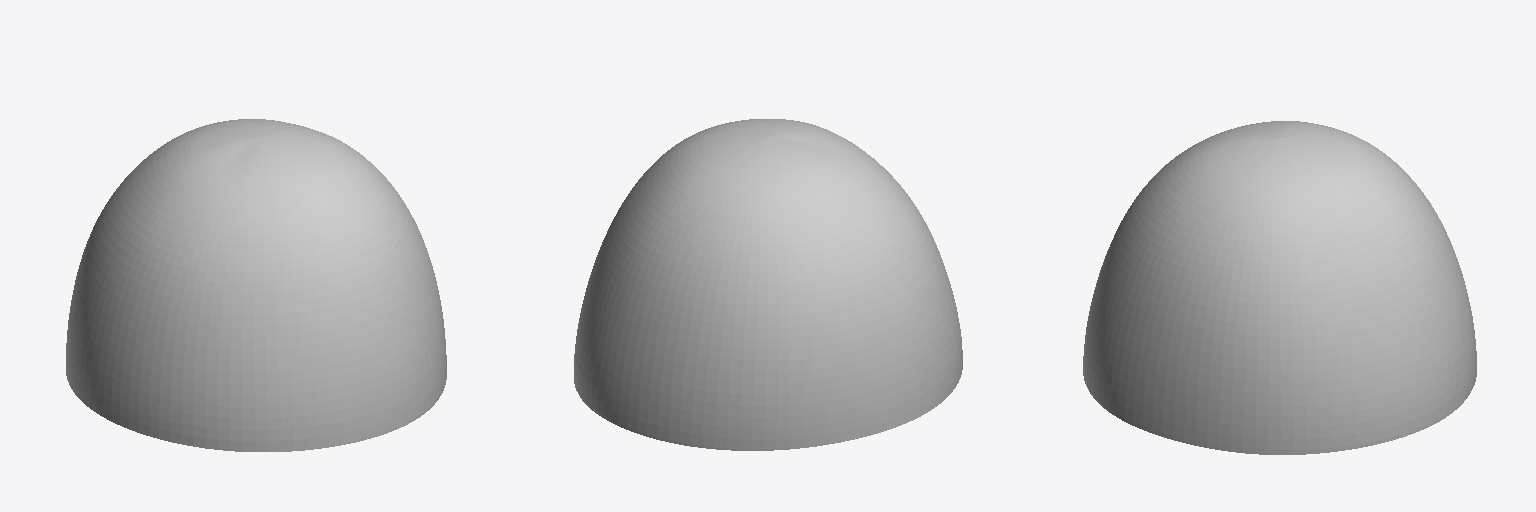
Rendered from watermelon_cut_2.obj.
The picture shows the model from 3 angles: view 1: azimuth 30°, elevation 25°; view 2: azimuth 150°, elevation 25°; view 3: azimuth 270°, elevation 25°; orthographic projection.
Parts seen in each view (by area): view 1: mmGroup1; view 2: mmGroup1; view 3: mmGroup1.
Part boxes in pixels (x1,y1,x2,y2): mmGroup1: (66, 119, 446, 451); mmGroup1: (574, 119, 962, 450); mmGroup1: (1083, 121, 1476, 454).
Size of the model in its own units: 19.71 by 13.31 by 20.17.